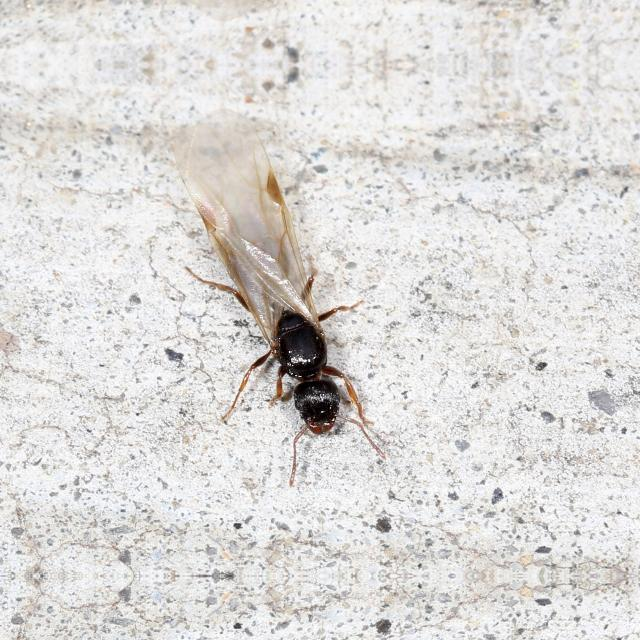Tetramorium: (190, 155, 386, 473)
